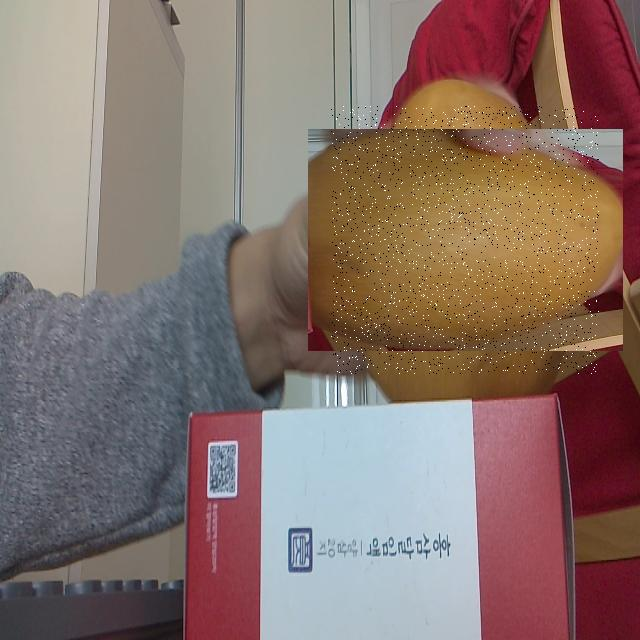pear: (331, 106, 599, 374)
